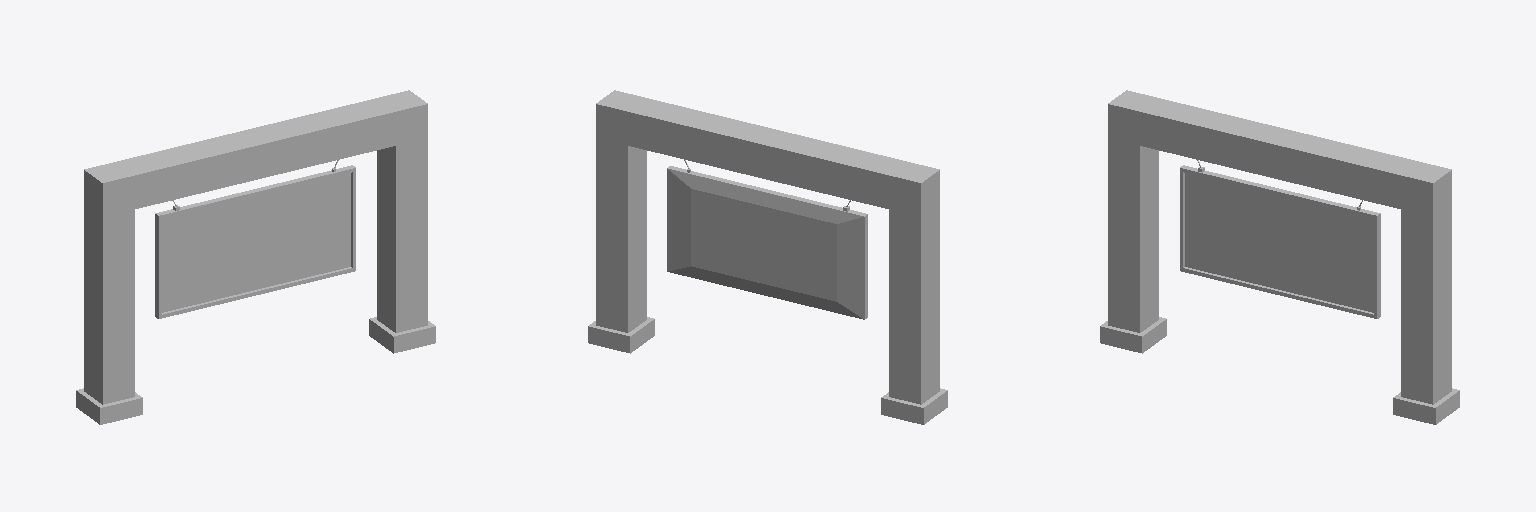
File: Big-Screen-01_Transparent.obj
3 renders of one model, left to right at view 1: azimuth 30°, elevation 25°; view 2: azimuth 150°, elevation 25°; view 3: azimuth 330°, elevation 25°, orthographic.
Parts seen in each view (by area): view 1: Metal_Extructure_Metal_Extructure.001; view 2: Metal_Extructure_Metal_Extructure.001; view 3: Metal_Extructure_Metal_Extructure.001.
Boxes of the visible parts, box(x1,y1,x2,y2) form: Metal_Extructure_Metal_Extructure.001: box(76, 90, 435, 424); Metal_Extructure_Metal_Extructure.001: box(588, 90, 947, 424); Metal_Extructure_Metal_Extructure.001: box(1100, 90, 1459, 424).
Bounding box in the file's own units: 20.61 × 14 × 2.61.